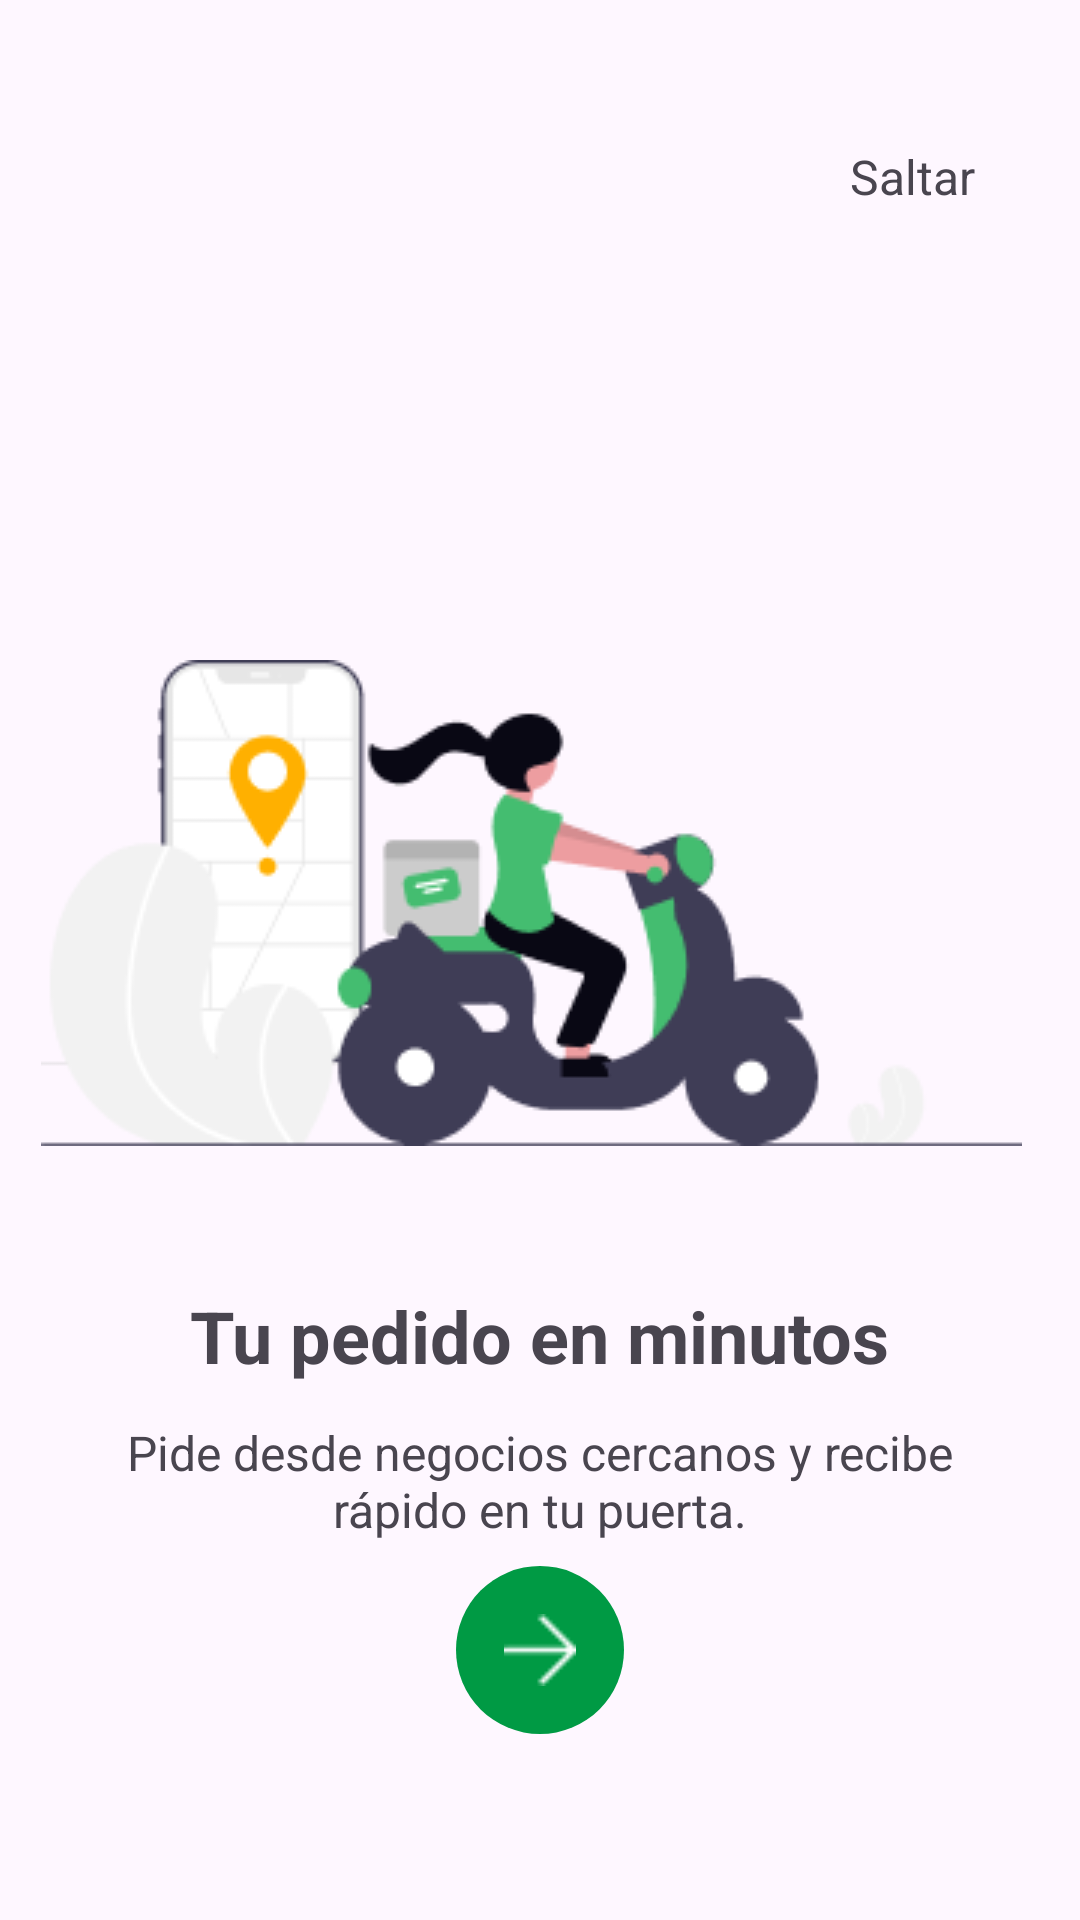

Locate icon controls on the screen. Image size 1080px×1920px, boxes as (x1, y1, x2, y2).
arrow forward: (456, 1566, 624, 1734)
